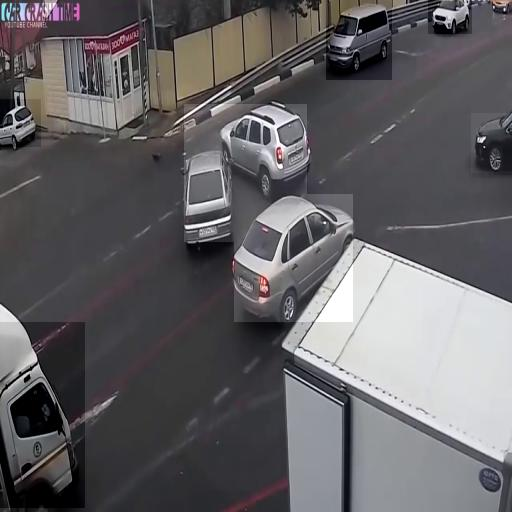小汽车: (0, 322, 85, 508), (234, 194, 353, 322), (326, 0, 392, 80), (471, 113, 512, 173), (0, 99, 41, 147), (428, 0, 472, 34)
小汽车撞小汽车: (184, 104, 307, 242)
